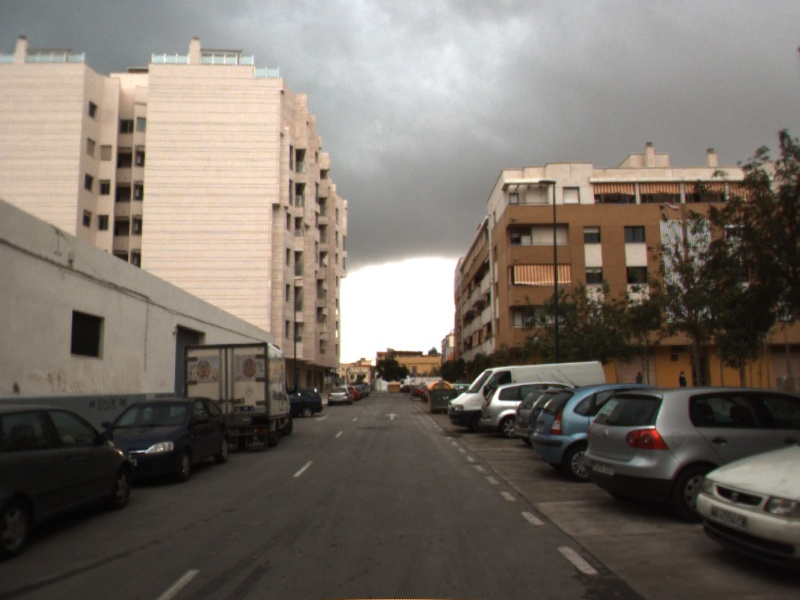STRAIGHT: (383, 410, 402, 422)
